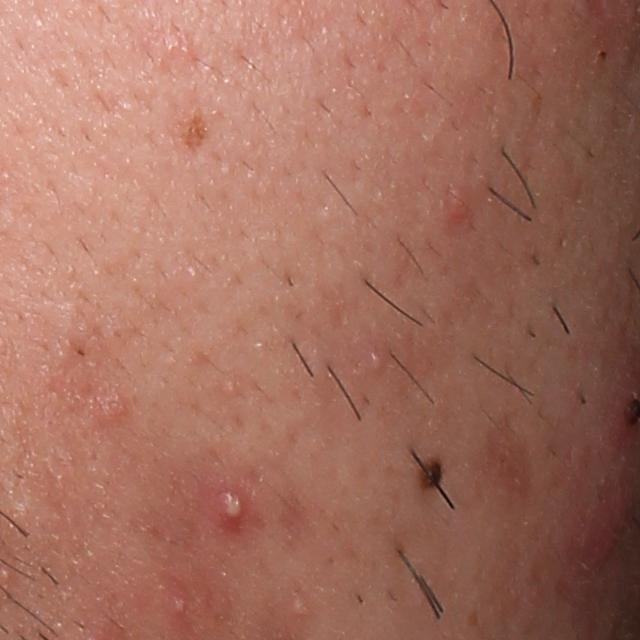comedo: (100, 395, 129, 419), (224, 379, 238, 394)
nevus: (417, 454, 448, 494)
papule: (578, 491, 634, 573), (438, 184, 475, 234)
pustule: (213, 486, 251, 531), (289, 594, 307, 617)
